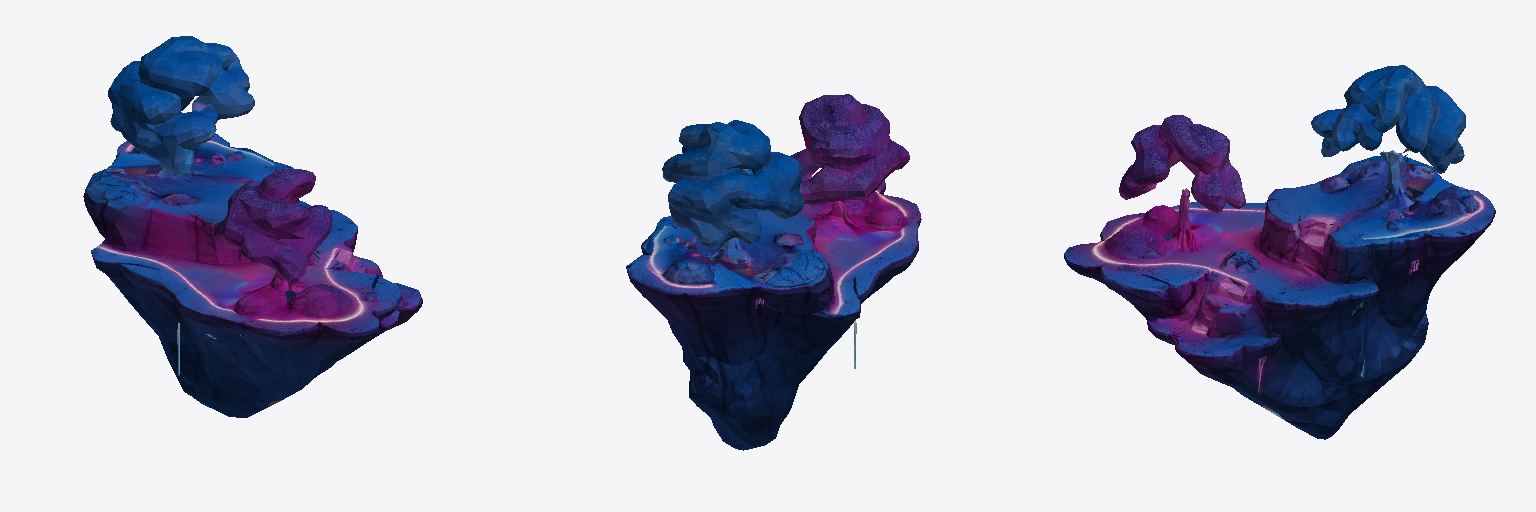
The picture shows the model from 3 angles: view 1: azimuth 30°, elevation 25°; view 2: azimuth 150°, elevation 25°; view 3: azimuth 270°, elevation 25°; orthographic projection.
Parts seen in each view (by area): view 1: tripo_node_4e3270d4-e14c-4289-af0b-c5f3331f5ad8; view 2: tripo_node_4e3270d4-e14c-4289-af0b-c5f3331f5ad8; view 3: tripo_node_4e3270d4-e14c-4289-af0b-c5f3331f5ad8.
Part boxes in pixels (x1,y1,x2,y2): tripo_node_4e3270d4-e14c-4289-af0b-c5f3331f5ad8: (83, 36, 422, 417); tripo_node_4e3270d4-e14c-4289-af0b-c5f3331f5ad8: (626, 94, 921, 450); tripo_node_4e3270d4-e14c-4289-af0b-c5f3331f5ad8: (1064, 65, 1495, 439).
Size of the model in its own units: 0.6724 by 0.8948 by 0.9899.
1 materials, 1 textured.